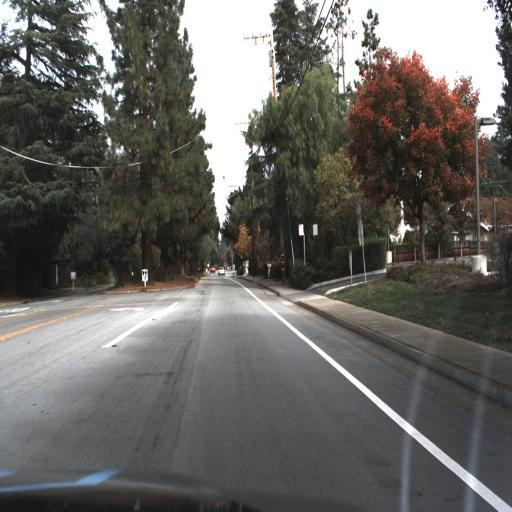car: (217, 260, 227, 276), (217, 262, 226, 277)
